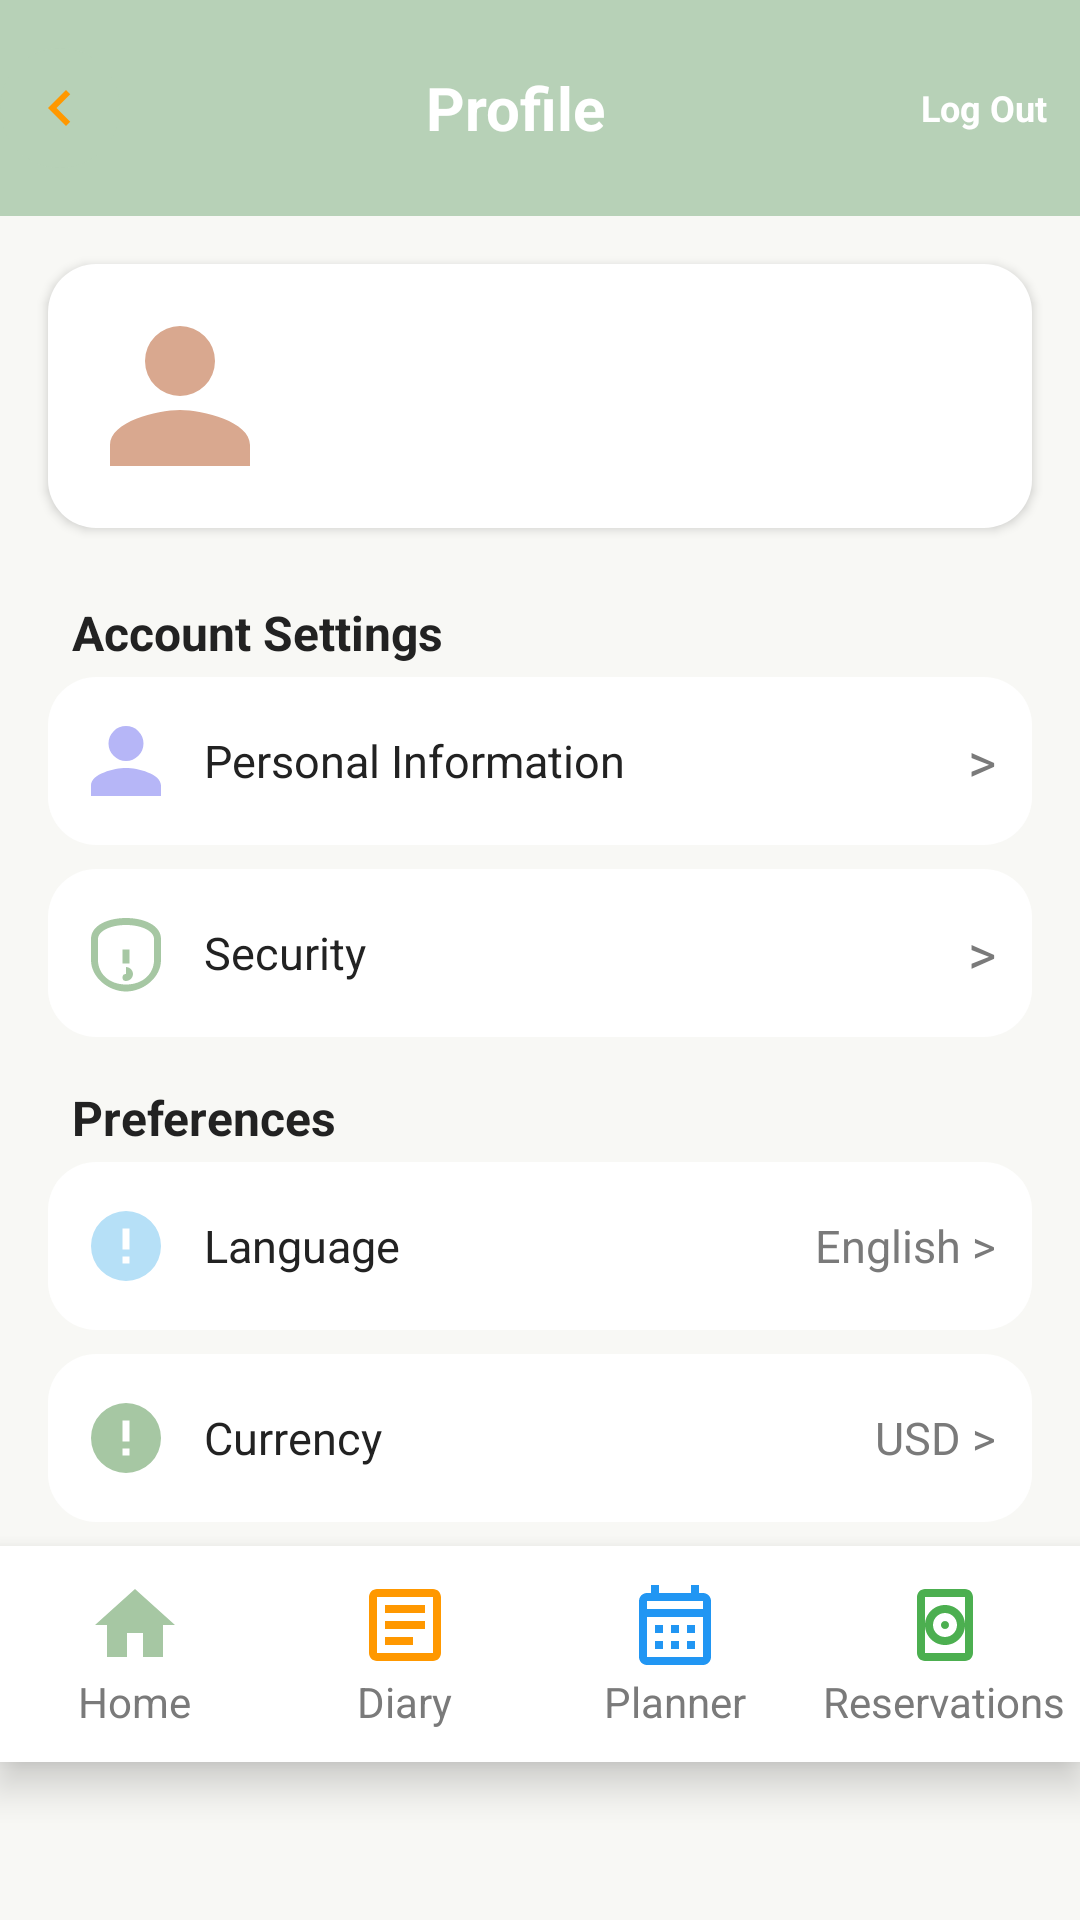

Icons on this 1080 x 1920 Android screen, each with its box as detection(x1, y1, x2, y2):
Back: detection(48, 90, 70, 126)
profile circle: detection(110, 326, 250, 466)
